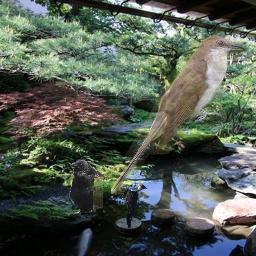Crow: (68, 159, 103, 214)
Cuckoo: (111, 35, 247, 194)
Woodpecker: (116, 182, 148, 229)
